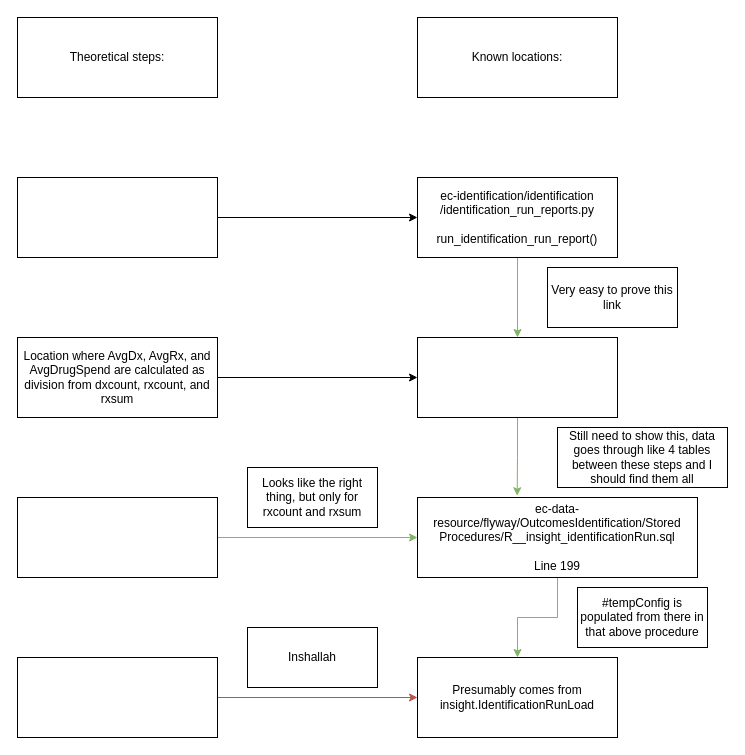
Image size: 745x755. Some labels were removed from this diagram. Here are the shapes that lost their labels. From the top down, the centre of each, then its label:
(x=117, y=217): Location where identification_run_report is generated
(x=517, y=377): identification_report_queries.py run_report_query()
(x=117, y=537): Location where the values dxcount, rxcount, and rxsum are filtered by a date
(x=117, y=697): Location where that date is determined
